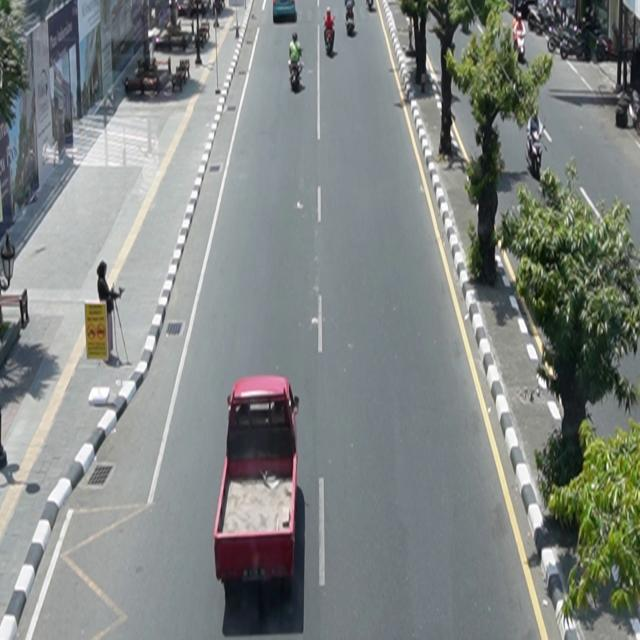car: (274, 1, 297, 23)
truck: (215, 375, 301, 586)
